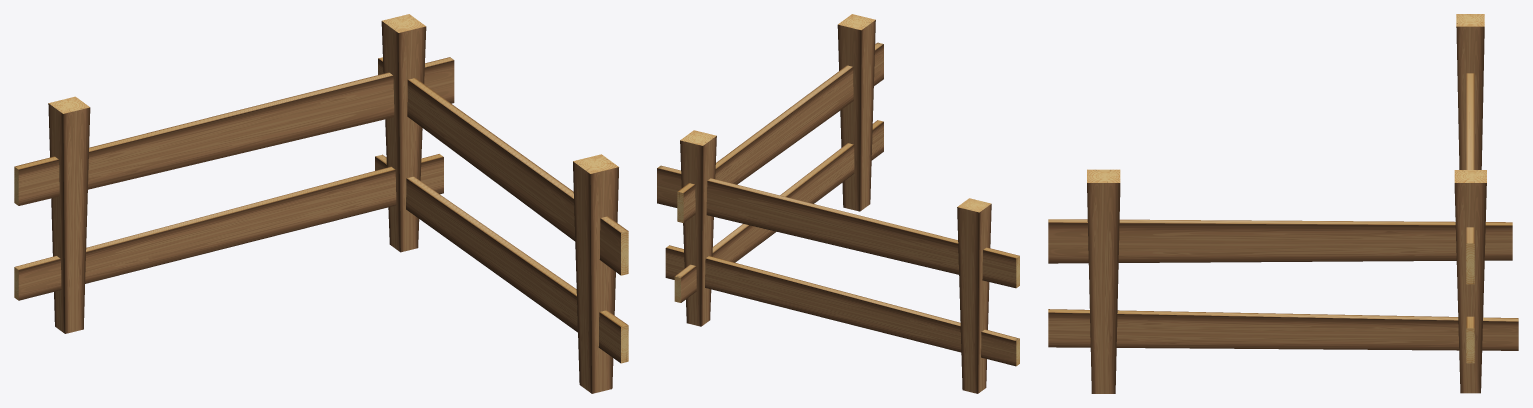
File: Fence_A_Coin.FBX
3 views of the same model, side by side, from view 1: azimuth 30°, elevation 25°; view 2: azimuth 150°, elevation 25°; view 3: azimuth 270°, elevation 25° (orthographic). The views are drawn at different scales.
Visible parts, largest first — view 1: Fence_A_Coin; view 2: Fence_A_Coin; view 3: Fence_A_Coin.
Boxes of the visible parts, x1,y1,x2,y2 form: Fence_A_Coin: (14, 14, 628, 393); Fence_A_Coin: (657, 14, 1019, 393); Fence_A_Coin: (1048, 14, 1518, 393).
Size of the model in its own units: 1.99 by 0.9725 by 1.95.
